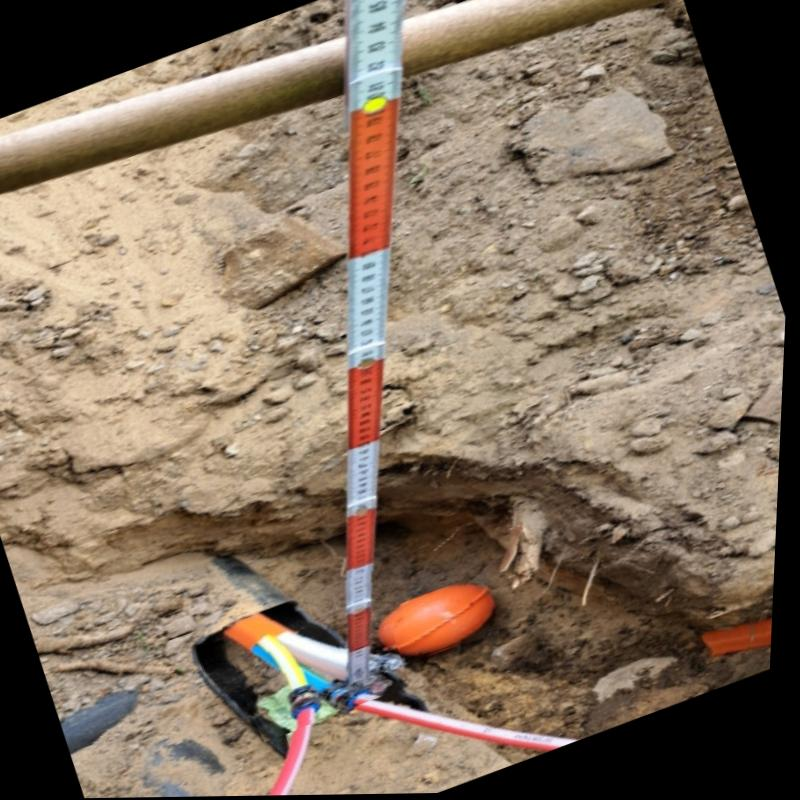Kugelmarker: (384, 587, 500, 656)
Orang-Speednetrohrchen: (230, 613, 408, 721), (710, 623, 778, 657)
